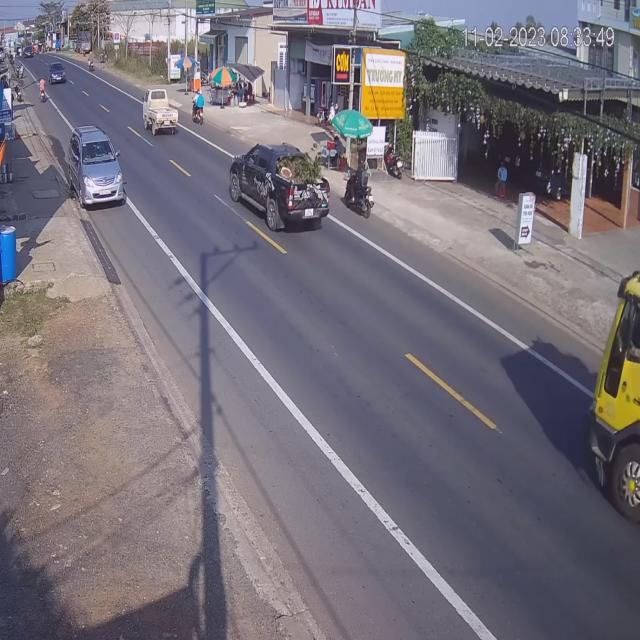car: (230, 146, 330, 235), (68, 127, 125, 210), (51, 61, 68, 85)
motorbike: (343, 168, 374, 218), (191, 92, 204, 126), (39, 79, 47, 105)
truck: (584, 270, 640, 524), (144, 86, 180, 138)
